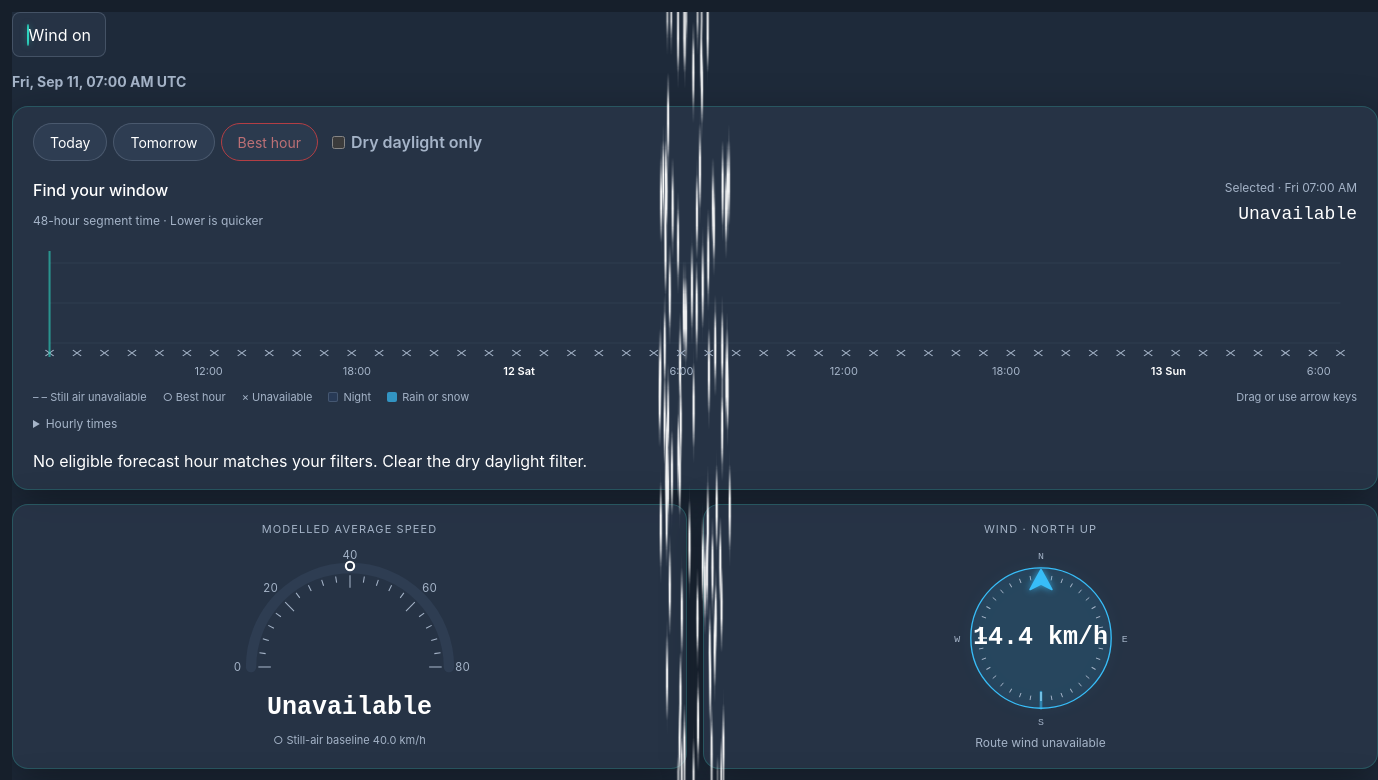
Test: wind back on: the map toggle restores the field
Click the button with aria-label "Wind particles": (59, 35) [12, 12, 106, 57]
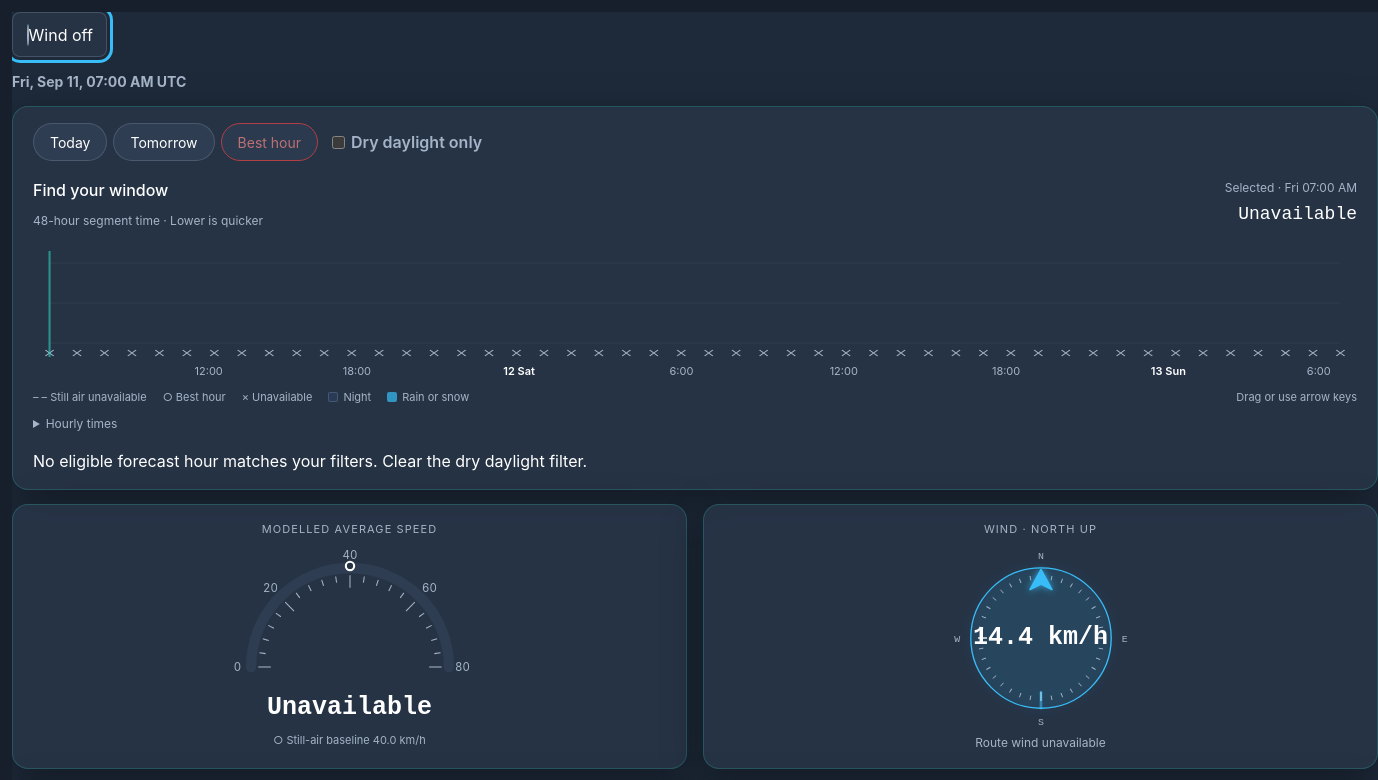
Click the button with aria-label "Wind particles": (60, 35) [12, 12, 107, 57]
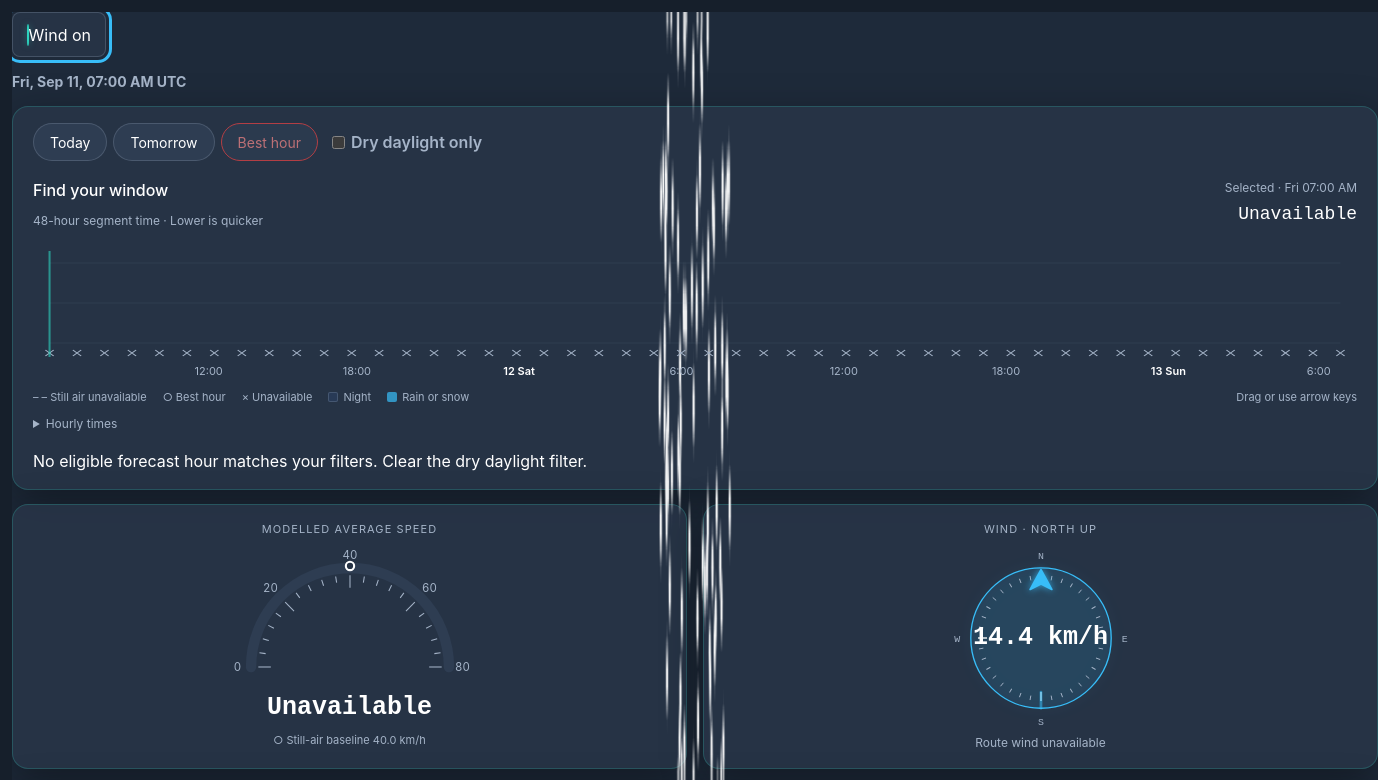
Result: the drawing with test id "wind-particle-field" is shown
